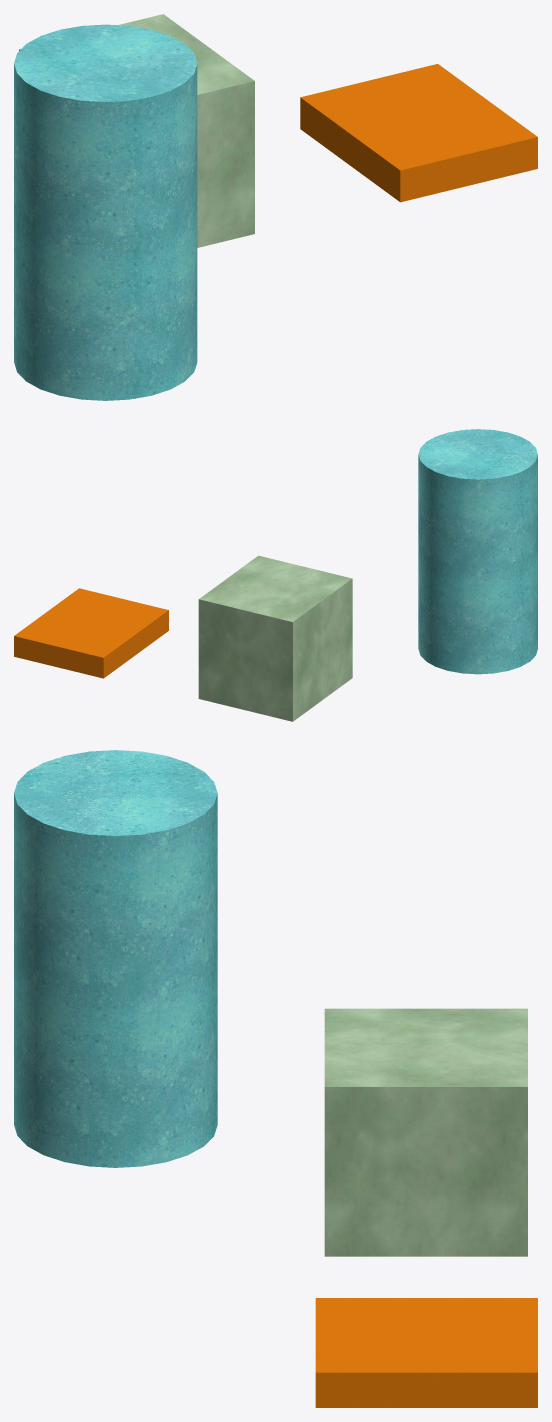
The model's file is 三个物体三种材质不打组（3次drawcall）.fbx.
3 renders of one model, top to bottom at view 1: azimuth 30°, elevation 25°; view 2: azimuth 150°, elevation 25°; view 3: azimuth 270°, elevation 25°, orthographic. The views are drawn at different scales.
Parts seen in each view (by area): view 1: Model; view 2: Model; view 3: Model.
Boxes of the visible parts, x1,y1,x2,y2 form: Model: [14, 14, 537, 400]; Model: [14, 429, 537, 721]; Model: [14, 750, 537, 1407].
Bounding box in the file's own units: 4273 × 2028 × 2902.
